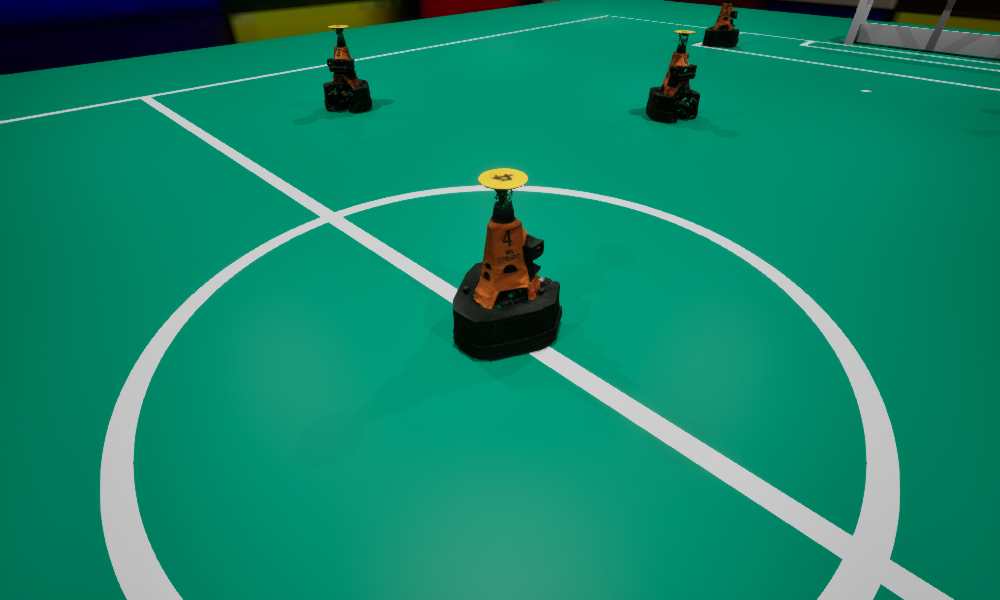o: (453, 168, 561, 360), (646, 30, 699, 123), (323, 25, 371, 112), (702, 0, 739, 47)
